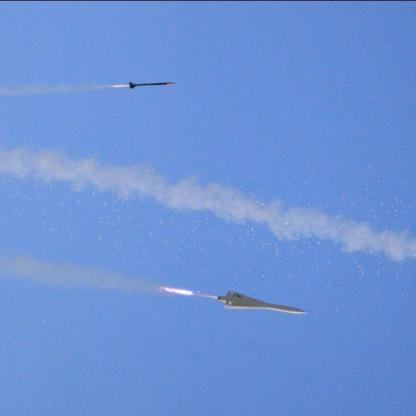MIL_TBM: (128, 80, 178, 90)
